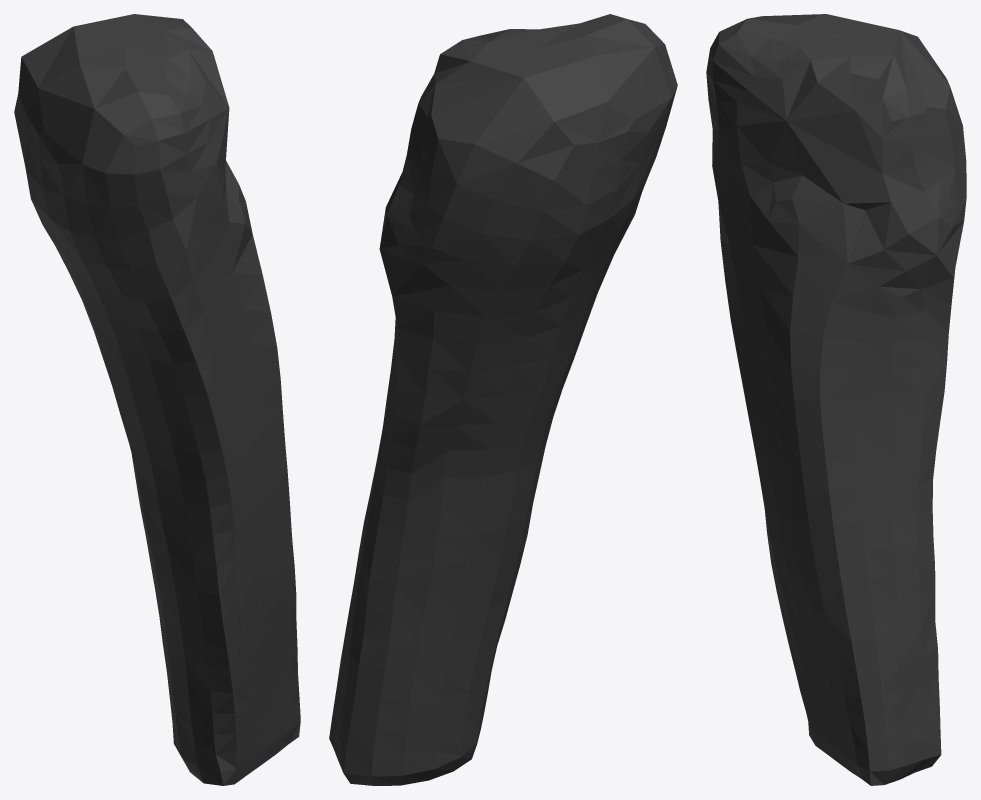
The model's file is Metacarpal_bone_II.glb.
The picture shows the model from 3 angles, left to right: view 1: azimuth 30°, elevation 25°; view 2: azimuth 150°, elevation 25°; view 3: azimuth 270°, elevation 25°; orthographic projection. The views are drawn at different scales.
Visible parts, largest first — view 1: Metacarpal_bone_II; view 2: Metacarpal_bone_II; view 3: Metacarpal_bone_II.
Part boxes in pixels (x1,y1,x2,y2): Metacarpal_bone_II: (14,14,300,785); Metacarpal_bone_II: (329,14,677,785); Metacarpal_bone_II: (706,14,966,785).
Size of the model in its own units: 25.2 by 64.46 by 22.65.
1 material, 1 textured.
